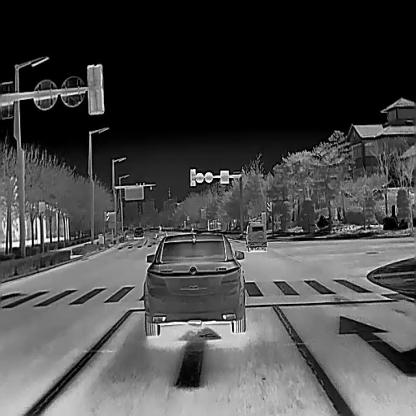car: (141, 228, 246, 338), (245, 219, 269, 251), (154, 223, 168, 243), (133, 225, 144, 239)
